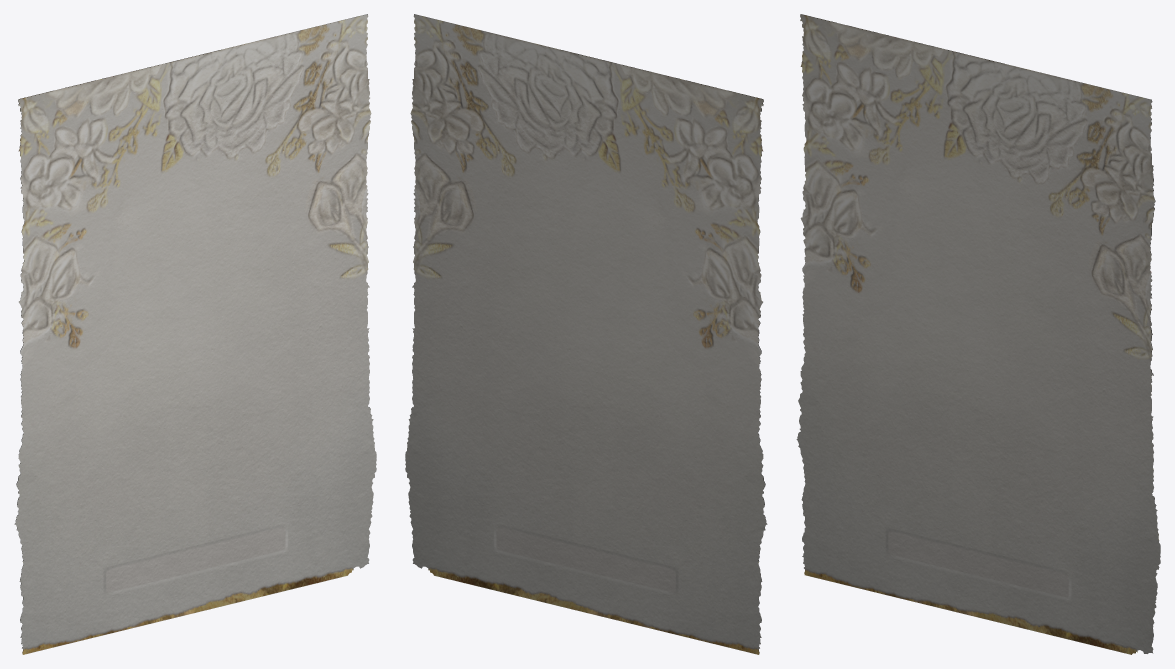
The model's file is Letter-ueWwaXAz.glb.
3 views of the same model, side by side, from view 1: azimuth 30°, elevation 25°; view 2: azimuth 150°, elevation 25°; view 3: azimuth 330°, elevation 25° (orthographic).
Parts seen in each view (by area): view 1: grid1; view 2: grid1; view 3: grid1.
Part boxes in pixels (x1,y1,x2,y2): grid1: (14,14,376,654); grid1: (405,14,767,654); grid1: (796,14,1160,654).
Bounding box in the file's own units: 0.9532 × 1.4 × 0.001.
Materials: 1 (1 with a texture image).
